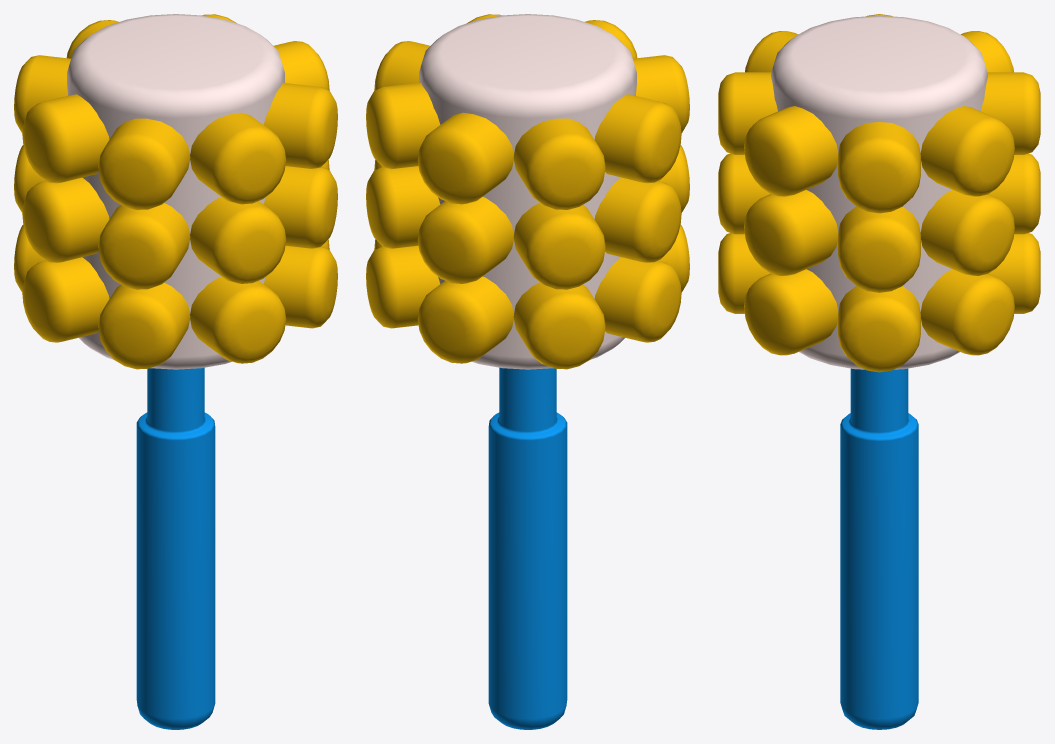
The model's file is Public_15_Hairbrush_5.glb.
3 renders of one model, left to right at view 1: azimuth 30°, elevation 25°; view 2: azimuth 150°, elevation 25°; view 3: azimuth 270°, elevation 25°, orthographic.
Visible parts, largest first — view 1: Public_15_Hairbrush_5; view 2: Public_15_Hairbrush_5; view 3: Public_15_Hairbrush_5.
Boxes of the visible parts, x1,y1,x2,y2 form: Public_15_Hairbrush_5: (14,14,337,729); Public_15_Hairbrush_5: (366,14,689,729); Public_15_Hairbrush_5: (718,14,1040,729).
Size of the model in its own units: 1.16 by 2.63 by 1.16.
Materials: 1 (1 with a texture image).
